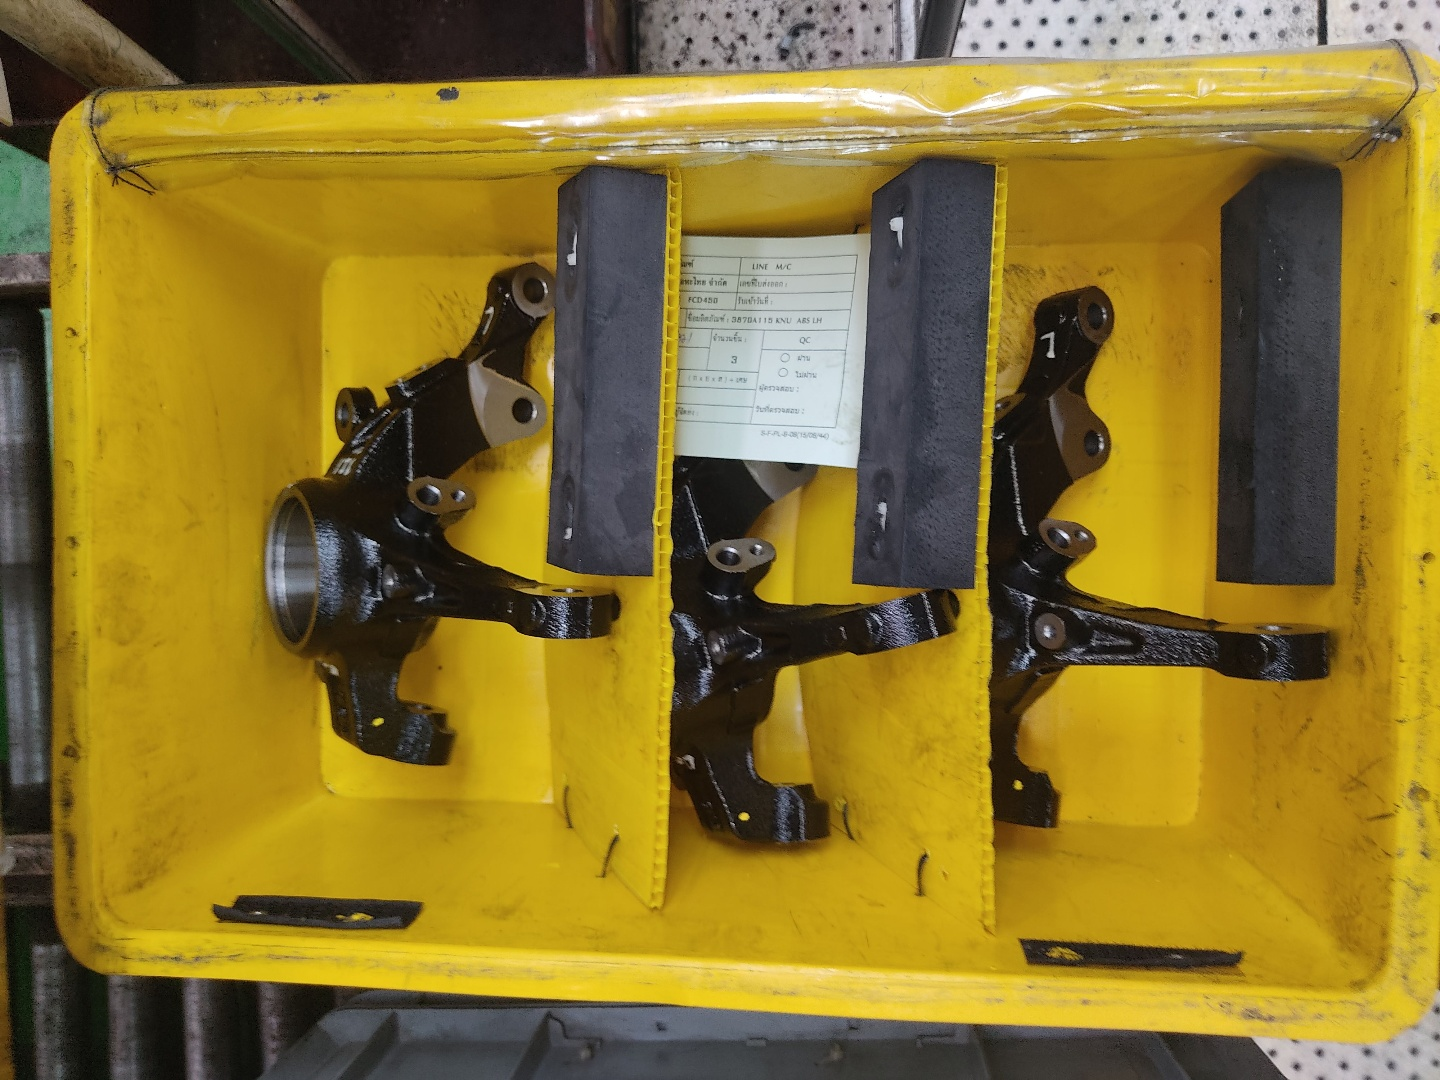abs-lh: (976, 275, 1354, 836), (242, 256, 633, 778), (644, 341, 968, 864)
